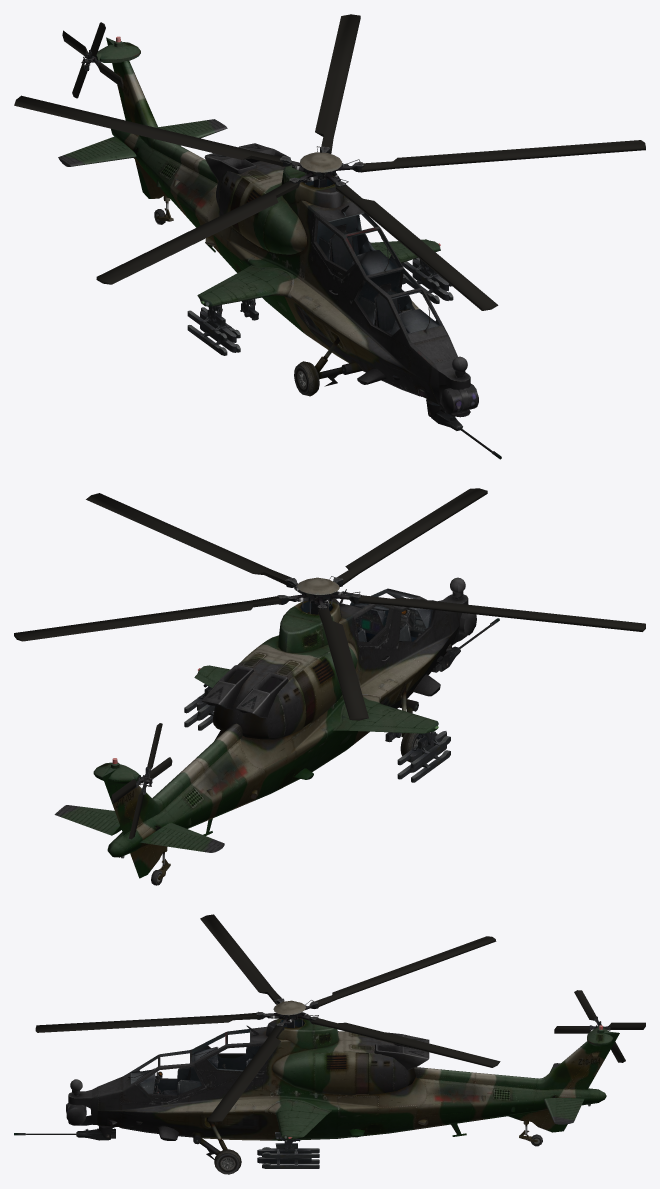
The picture shows the model from 3 angles, top to bottom: view 1: azimuth 30°, elevation 25°; view 2: azimuth 150°, elevation 25°; view 3: azimuth 270°, elevation 25°; orthographic projection. The views are drawn at different scales.
Visible parts, largest first — view 1: Mesh_0198, Mesh_0200, Mesh_0199; view 2: Mesh_0198, Mesh_0200, Mesh_0199; view 3: Mesh_0198, Mesh_0200, Mesh_0199.
Boxes of the visible parts, left/top/right/bottom form: Mesh_0198: left=58, top=36, right=501, bottom=459; Mesh_0200: left=14, top=14, right=645, bottom=310; Mesh_0199: left=62, top=22, right=123, bottom=98; Mesh_0198: left=54, top=576, right=499, bottom=885; Mesh_0200: left=14, top=488, right=645, bottom=720; Mesh_0199: left=111, top=723, right=172, bottom=839; Mesh_0198: left=14, top=998, right=619, bottom=1174; Mesh_0200: left=35, top=914, right=500, bottom=1122; Mesh_0199: left=554, top=990, right=645, bottom=1062.
Size of the model in its own units: 366 by 126 by 474.
1 material, 1 textured.
